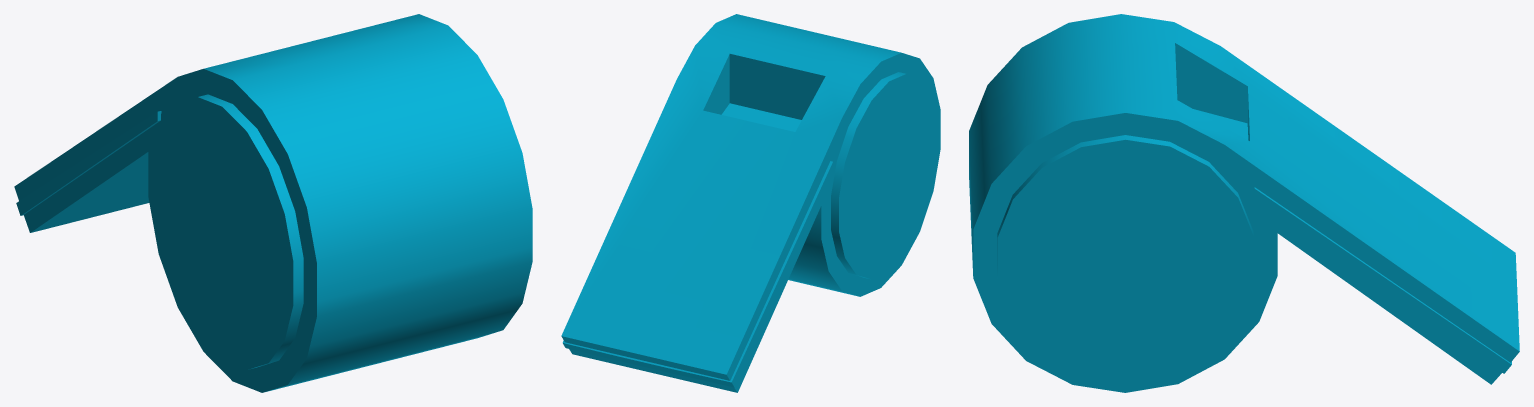
Rendered from whistle.obj.
The picture shows the model from 3 angles, left to right: view 1: azimuth 30°, elevation 25°; view 2: azimuth 150°, elevation 25°; view 3: azimuth 270°, elevation 25°; orthographic projection. The views are drawn at different scales.
Visible parts, largest first — view 1: Cylinder001; view 2: Cylinder001; view 3: Cylinder001.
Part boxes in pixels (bbox=[...]): Cylinder001: bbox=[14, 14, 532, 392]; Cylinder001: bbox=[561, 14, 940, 392]; Cylinder001: bbox=[969, 14, 1519, 392].
Size of the model in its own units: 216049 by 255830 by 455790.
